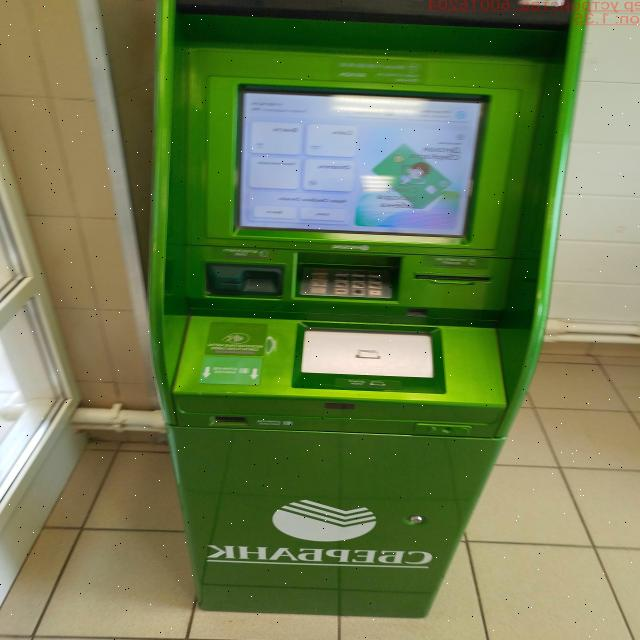bank: (147, 0, 599, 619)
